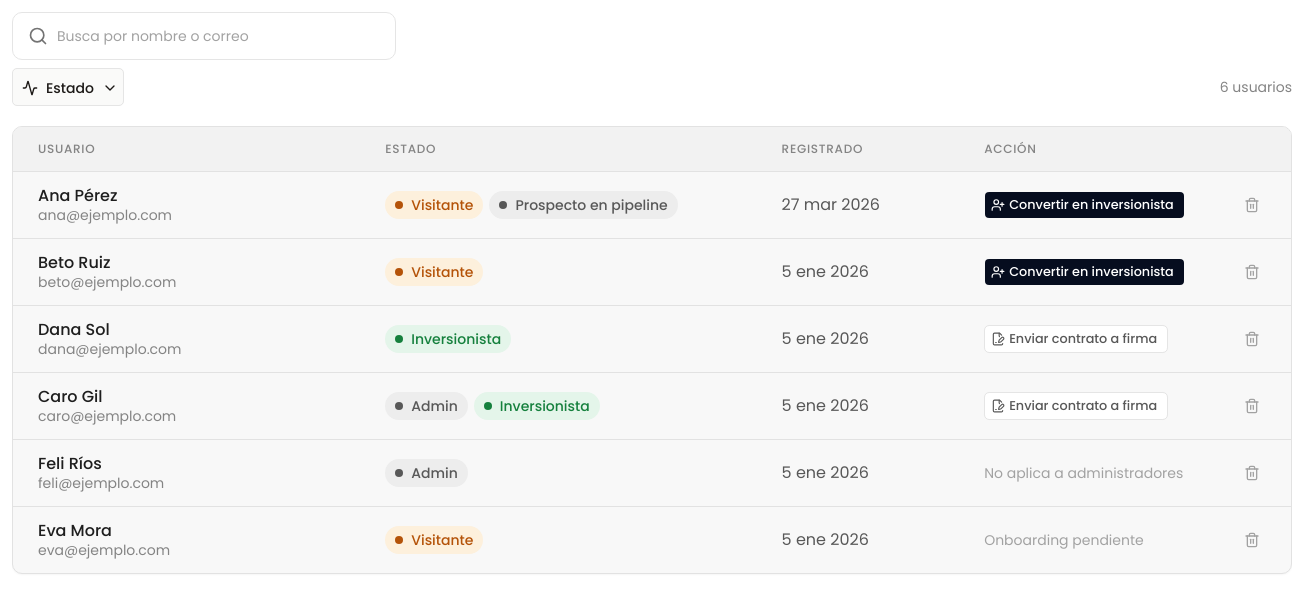
Test: search and filter › filters to visitors only
Click the button "Estado" at (68, 87), box [12,68,124,106]
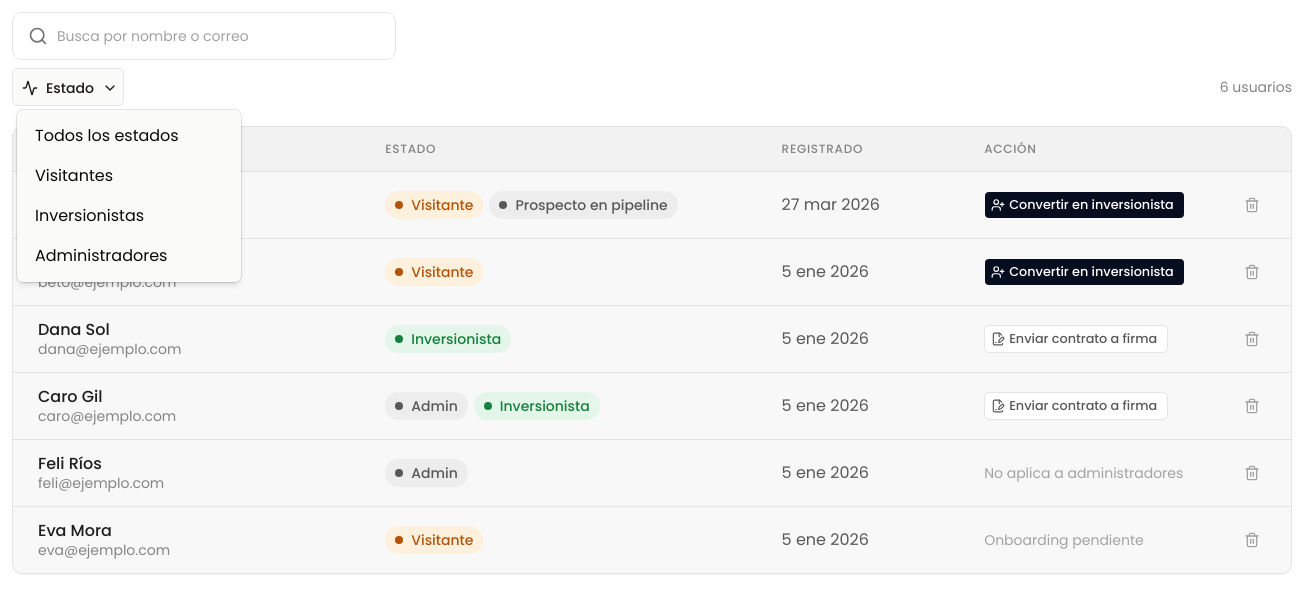
Click the menu item "Visitantes" at (74, 176), box [35,164,113,187]
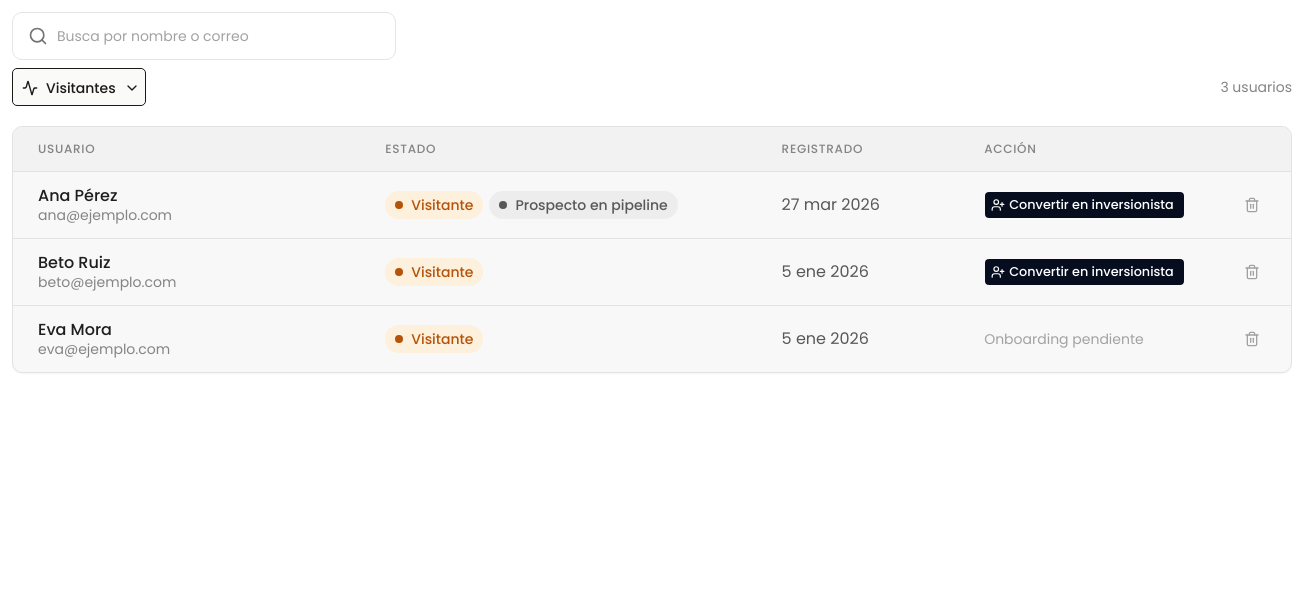
Expected: the text "Dana Sol" is gone
Expected: the text "Caro Gil" is gone
Expected: the text "Feli Ríos" is gone
